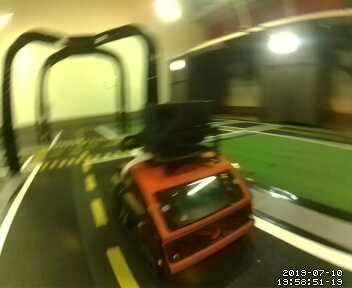pheeno: (113, 101, 256, 280)
